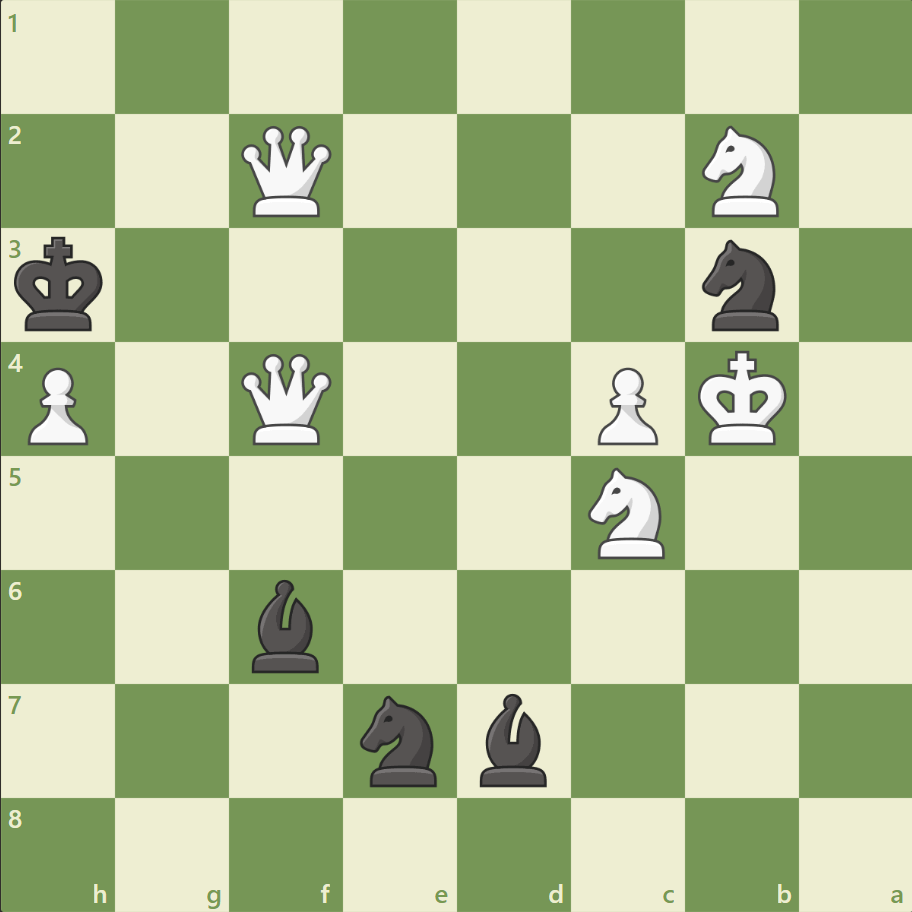K: (692, 344, 792, 452)
N: (579, 461, 676, 564), (692, 121, 789, 223)
P: (20, 359, 95, 450), (588, 359, 662, 450)
Q: (237, 349, 336, 449), (237, 122, 336, 222)
b: (471, 687, 555, 790), (244, 574, 328, 676)
k: (11, 231, 111, 339)
n: (351, 688, 449, 791), (692, 234, 789, 337)
